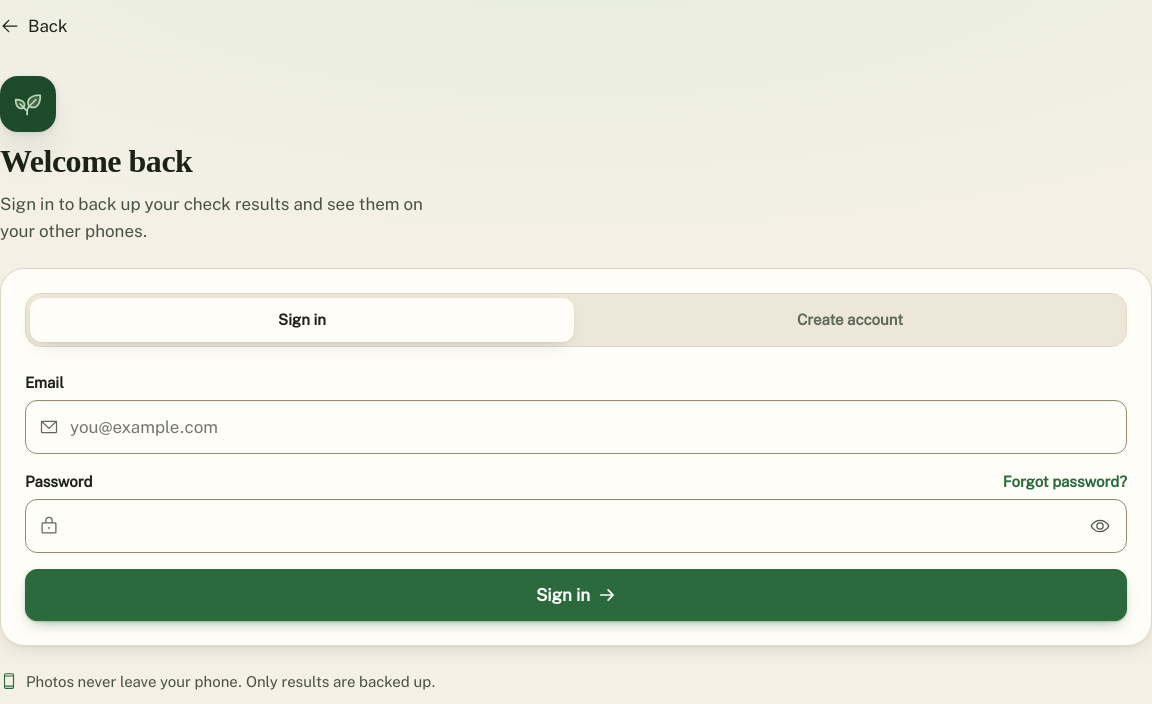
it: sign in › shows one generic message on failure (no account enumeration)
Check: the heading "Welcome back" is shown, box [0,143,192,179]
Type "someone@example.com" into the field labelled "Email" at (576, 427), box [25,400,1127,454]
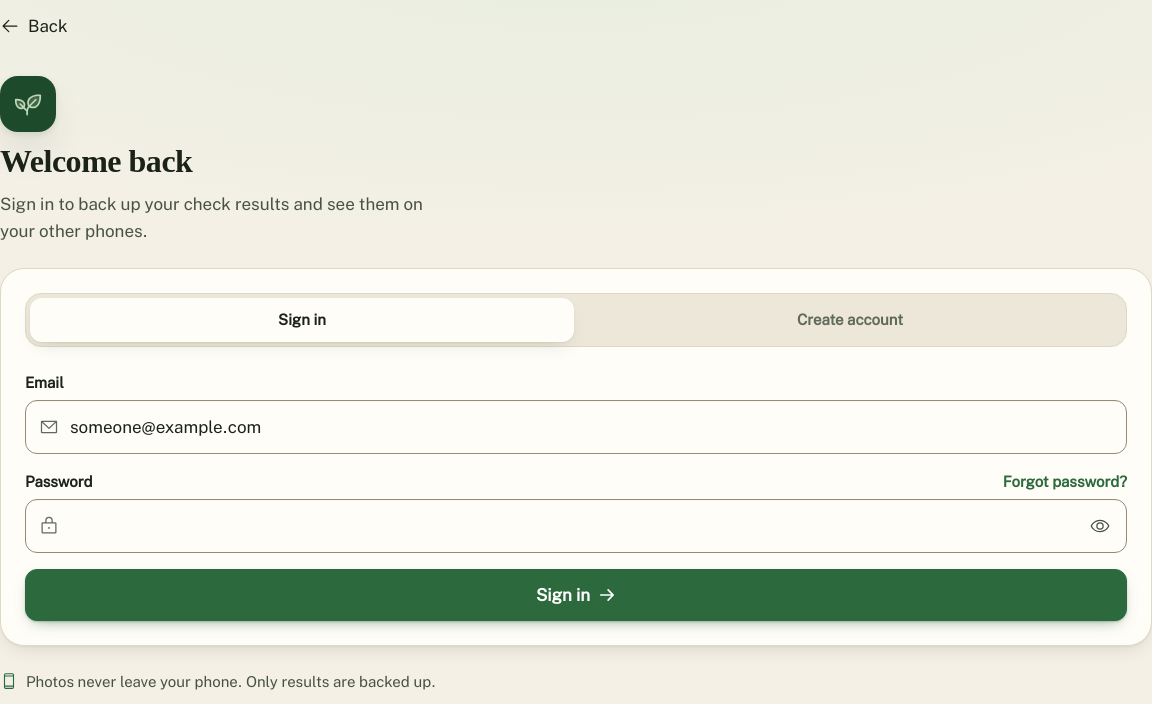
Type "wrong password here" into the password field labelled "Password" at (576, 526), box [25,499,1127,553]
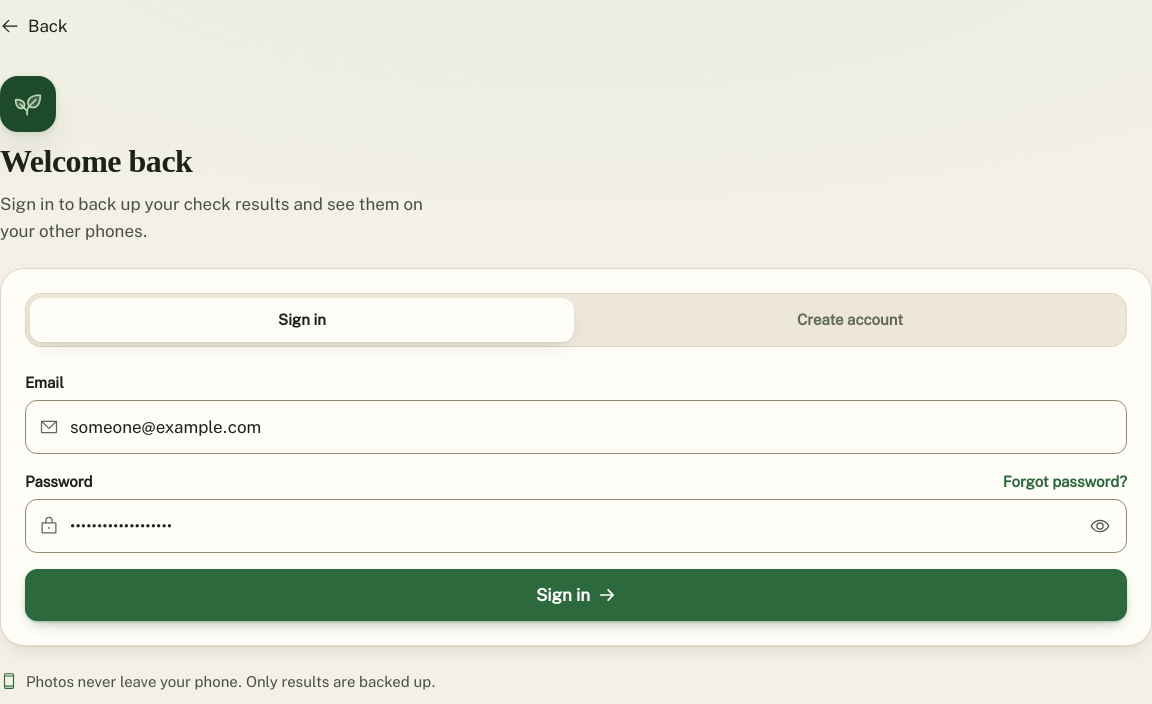
Click the button "Sign in" at (576, 595), box [25,569,1127,621]
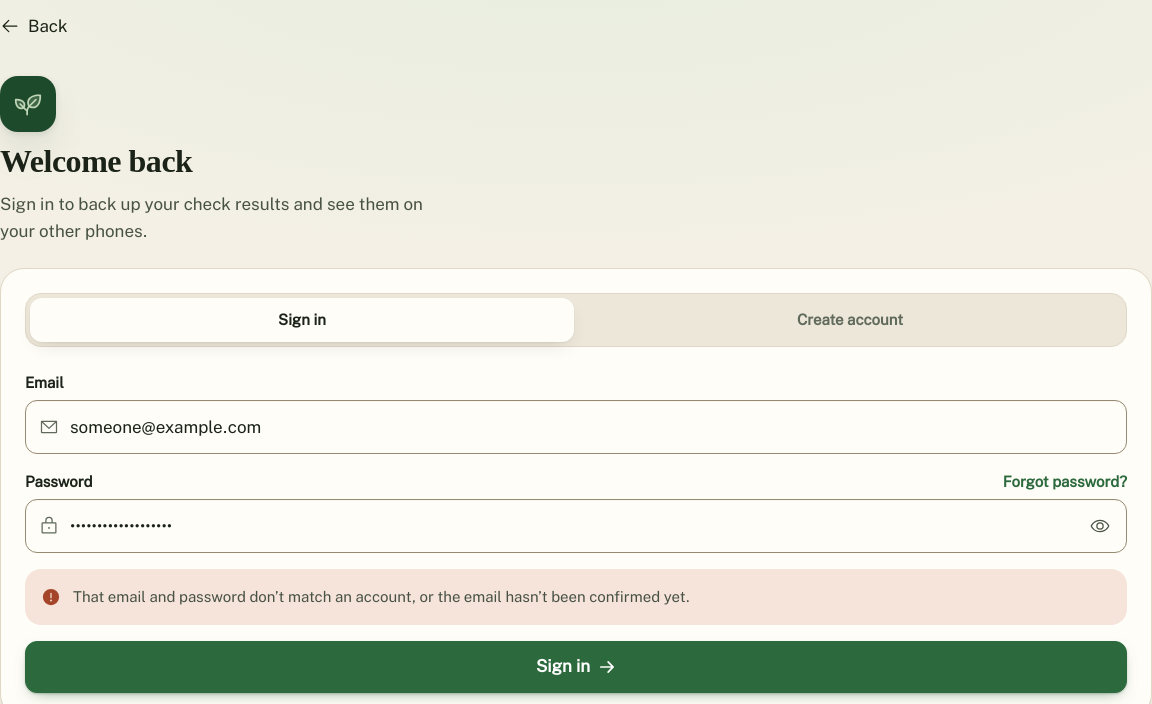
Check: the text "That email and password don’t match an account, or the email hasn’t been confirmed yet." is shown, box [73,588,690,605]
